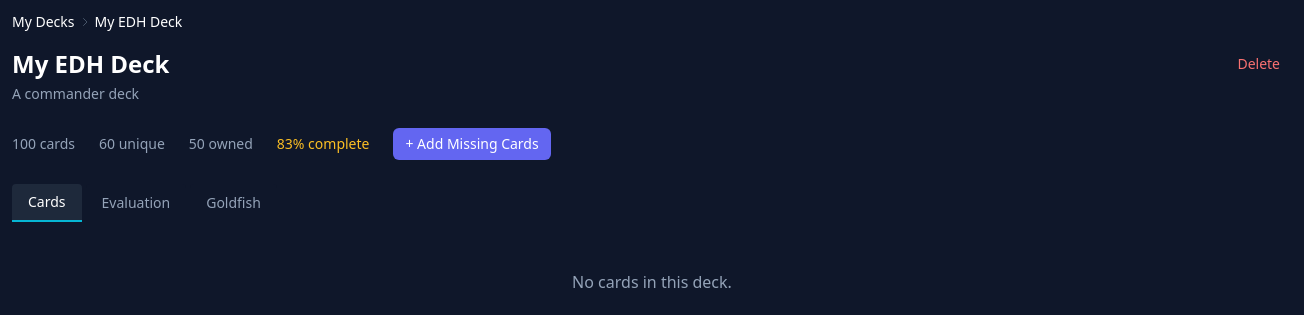
Test case: DeckView inline edit › clicking name activates edit mode
This screenshot has width=1304, height=315.
Click the heading with test id "deck-title".
click(91, 64)  # box [12,47,170,80]
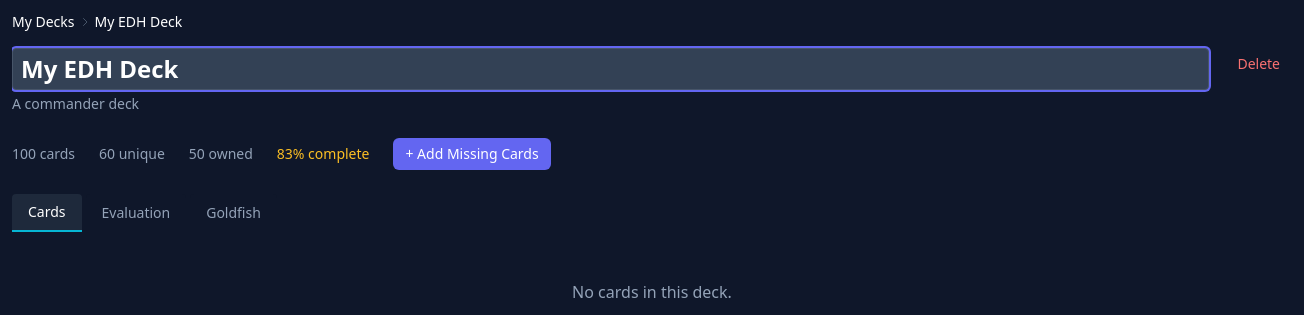
Check: the field with test id "deck-title-input" holds "My EDH Deck", box [12,48,1209,90]
